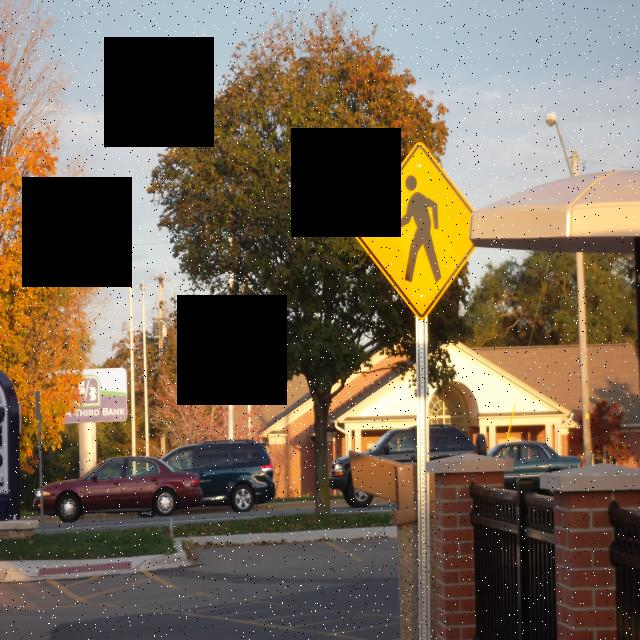warning: (345, 132, 482, 323)
